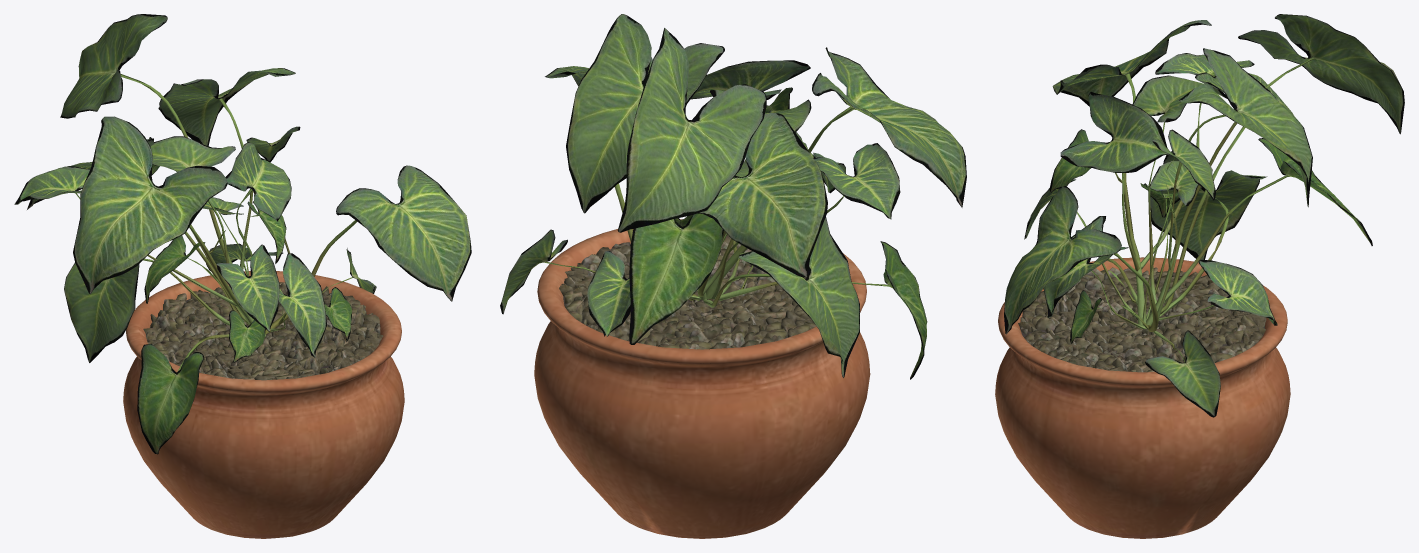
The model's file is potted_plant_02.glb.
The picture shows the model from 3 angles, left to right: view 1: azimuth 30°, elevation 25°; view 2: azimuth 150°, elevation 25°; view 3: azimuth 270°, elevation 25°; orthographic projection. The views are drawn at different scales.
Parts seen in each view (by area): view 1: potted_plant_02_leaves, potted_plant_02_pot, potted_plant_02_dirt; view 2: potted_plant_02_leaves, potted_plant_02_pot, potted_plant_02_dirt; view 3: potted_plant_02_leaves, potted_plant_02_pot, potted_plant_02_dirt.
Part boxes in pixels (<box>): potted_plant_02_leaves: <box>14,14,471,454</box>; potted_plant_02_pot: <box>123,271,404,538</box>; potted_plant_02_dirt: <box>143,282,383,380</box>; potted_plant_02_leaves: <box>500,14,966,379</box>; potted_plant_02_pot: <box>534,219,870,538</box>; potted_plant_02_dirt: <box>559,233,816,349</box>; potted_plant_02_leaves: <box>1004,14,1404,417</box>; potted_plant_02_pot: <box>995,257,1290,538</box>; potted_plant_02_dirt: <box>1018,267,1266,372</box>.
Bounding box in the file's own units: 0.7012 × 0.8412 × 0.6574.
2 materials, 2 textured.
